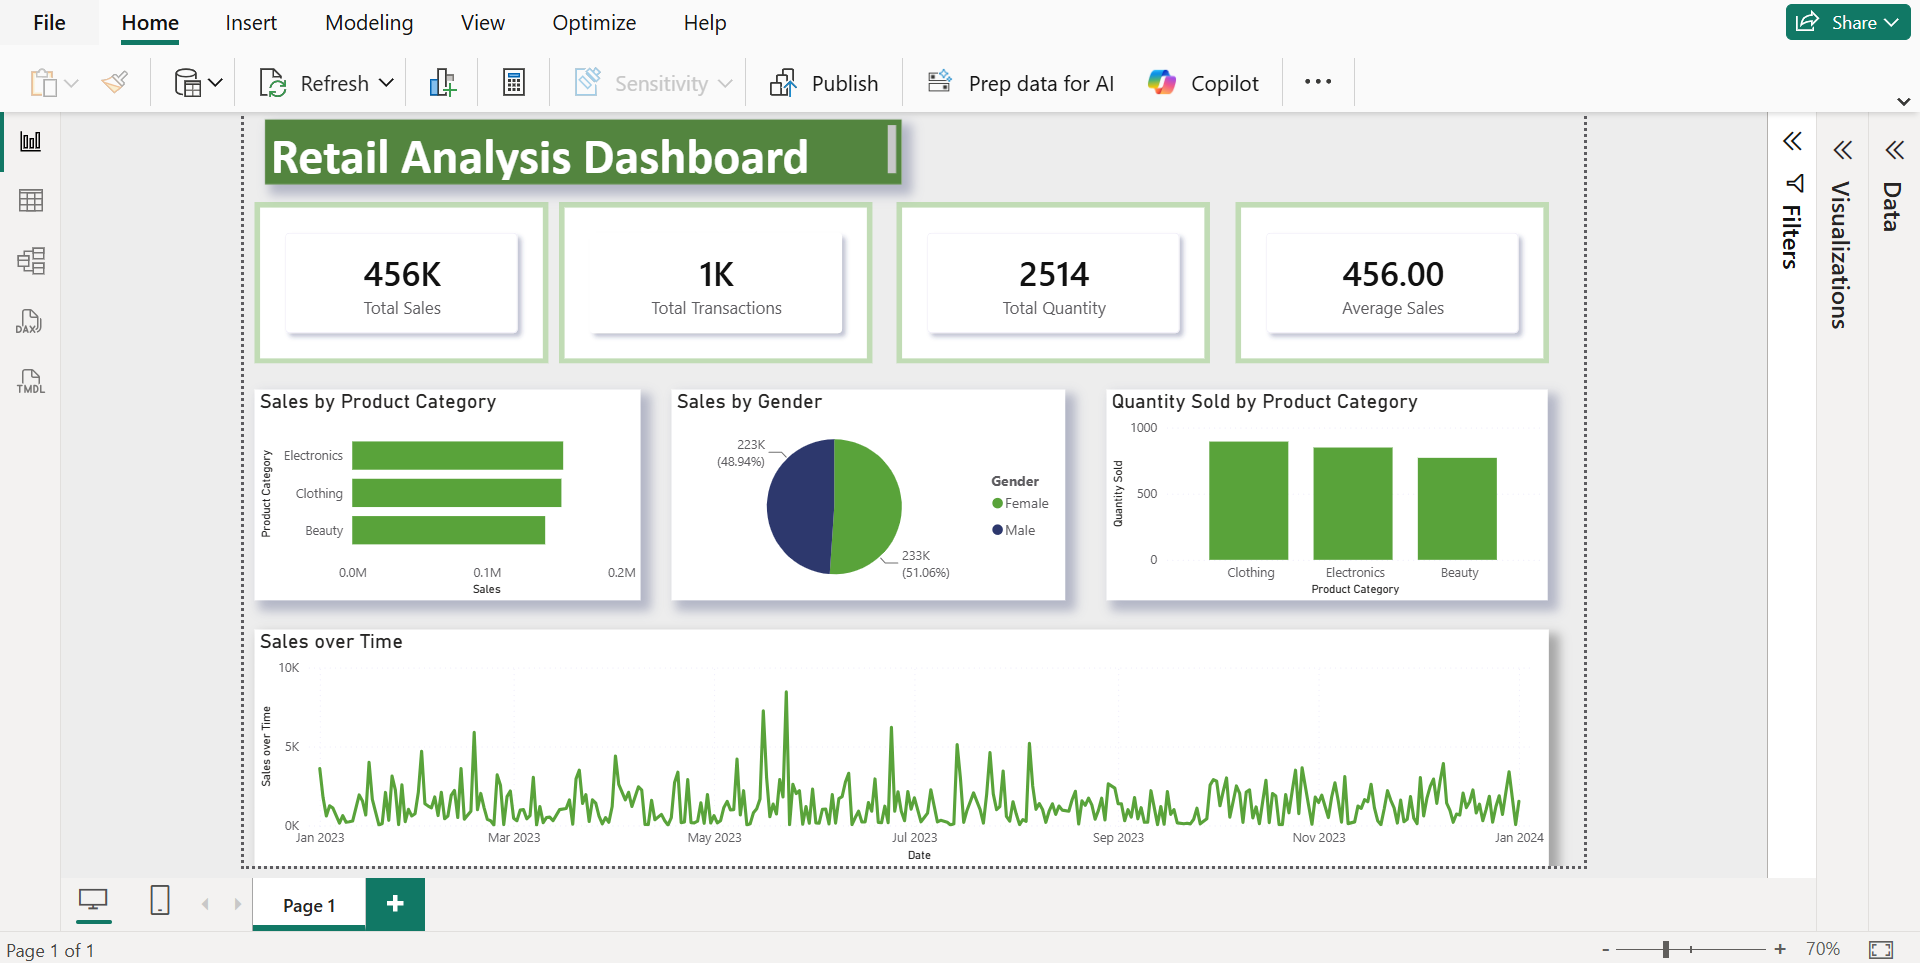

The page's visual inventory and layout, read from the dashboard file:
{"tool":"powerbi","page":{"name":"Page 1","canvas":[1280,720],"ordinal":0},"visuals":[{"type":"clusteredBarChart","fields":{"Category":["retail_sales_dataset (1).Product Category"],"Y":["Sum(retail_sales_dataset (1).Total Amount)"]},"box":[9.4,265.3,368.8,201.3],"z":0},{"type":"pieChart","fields":{"Category":["retail_sales_dataset (1).Gender"],"Y":["Sum(retail_sales_dataset (1).Total Amount)"]},"box":[408.3,265.3,376.3,201.3],"z":1000},{"type":"clusteredColumnChart","fields":{"Category":["retail_sales_dataset (1).Product Category"],"Y":["Sum(retail_sales_dataset (1).Quantity)"]},"box":[824.1,265.3,421.4,201.3],"z":2000},{"type":"lineChart","title":"Sales over Time ","fields":{"Y":["Sum(retail_sales_dataset (1).Total Amount)"],"Category":["retail_sales_dataset (1).Date"]},"box":[9.4,494.8,1236.1,225.8],"z":3000},{"type":"cardVisual","fields":{"Data":["Sum(retail_sales_dataset (1).Total Amount)"]},"box":[9.4,86.5,280.3,154.3],"z":4000},{"type":"cardVisual","fields":{"Data":["CountNonNull(retail_sales_dataset (1).Transaction ID)"]},"box":[301,86.5,299.1,154.3],"z":5000},{"type":"cardVisual","fields":{"Data":["Sum(retail_sales_dataset (1).Quantity)"]},"box":[622.8,86.5,299,154],"z":6000},{"type":"cardVisual","fields":{"Data":["Avg(retail_sales_dataset (1).Total Amount)"]},"box":[946.4,86.5,299.1,154.3],"z":7000},{"type":"textbox","box":[20.7,7.5,607.7,62.1],"z":8000}]}

Visuals, with their boxes on the page's 1280x720 design canvas (x1, y1, x2, y2). These are canvas units, not pixel positions in the 1920x963 screenshot, which may show the page scaled, cropped or inside an application window:
clusteredBarChart - retail_sales_dataset (1).Product Category x Sum(retail_sales_dataset (1).Total Amount): 9,265,378,467
pieChart - retail_sales_dataset (1).Gender x Sum(retail_sales_dataset (1).Total Amount): 408,265,785,467
clusteredColumnChart - retail_sales_dataset (1).Product Category x Sum(retail_sales_dataset (1).Quantity): 824,265,1246,467
"Sales over Time " lineChart: 9,495,1246,721
cardVisual - Sum(retail_sales_dataset (1).Total Amount): 9,86,290,241
cardVisual - CountNonNull(retail_sales_dataset (1).Transaction ID): 301,86,600,241
cardVisual - Sum(retail_sales_dataset (1).Quantity): 623,86,922,240
cardVisual - Avg(retail_sales_dataset (1).Total Amount): 946,86,1246,241
textbox: 21,8,628,70
